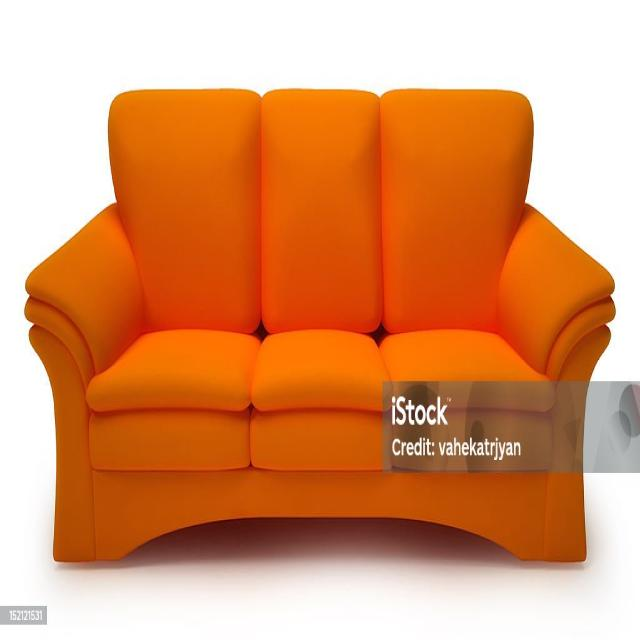back_cushion: (109, 89, 532, 332)
base: (94, 467, 585, 560)
left_arm: (498, 205, 614, 376)
legs: (26, 299, 95, 560), (544, 326, 610, 558)
right_arm: (25, 204, 142, 374)
seat_cushion: (86, 329, 551, 471)
stallion-sofa: (0, 0, 639, 639)
